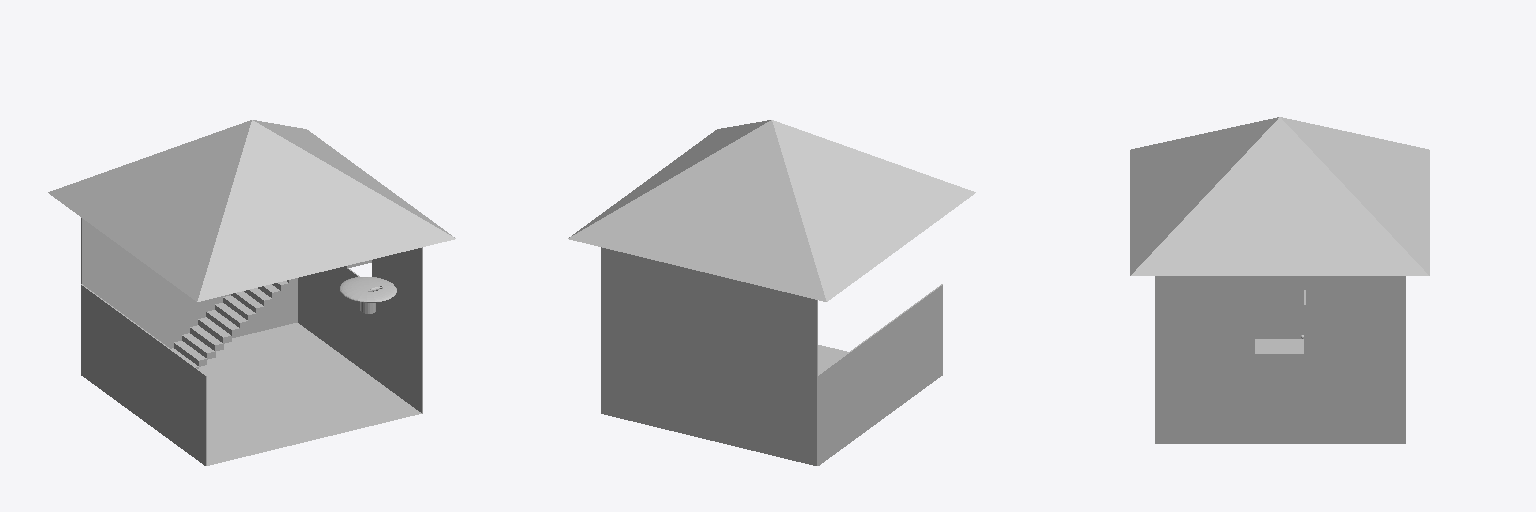
File: House_AllElse.obj
3 renders of one model, left to right at view 1: azimuth 30°, elevation 25°; view 2: azimuth 150°, elevation 25°; view 3: azimuth 270°, elevation 25°, orthographic.
Parts seen in each view (by area): view 1: pPyramid1, pPlane2, pCube25, pCube28, pCube24, pCube2, pCube29, polySurface1; view 2: pPyramid1, pCube24, pCube2, pCube25; view 3: pPyramid1, pCube28, pCube29, pCube25, pPlane2.
Boxes of the visible parts, <box> form: pPyramid1: <box>48,120,455,301</box>; pPlane2: <box>199,323,421,465</box>; pCube25: <box>81,284,206,465</box>; pCube28: <box>298,266,422,413</box>; pCube24: <box>83,268,297,348</box>; pCube2: <box>81,218,149,283</box>; pCube29: <box>345,247,422,322</box>; polySurface1: <box>340,277,396,313</box>; pPyramid1: <box>568,120,975,301</box>; pCube24: <box>601,323,817,465</box>; pCube2: <box>601,247,817,375</box>; pCube25: <box>818,284,942,465</box>; pPyramid1: <box>1130,117,1429,275</box>; pCube28: <box>1155,353,1404,443</box>; pCube29: <box>1155,276,1404,353</box>; pCube25: <box>1255,290,1303,338</box>; pPlane2: <box>1255,339,1303,352</box>.
Size of the model in its own units: 61.8 by 60.61 by 60.